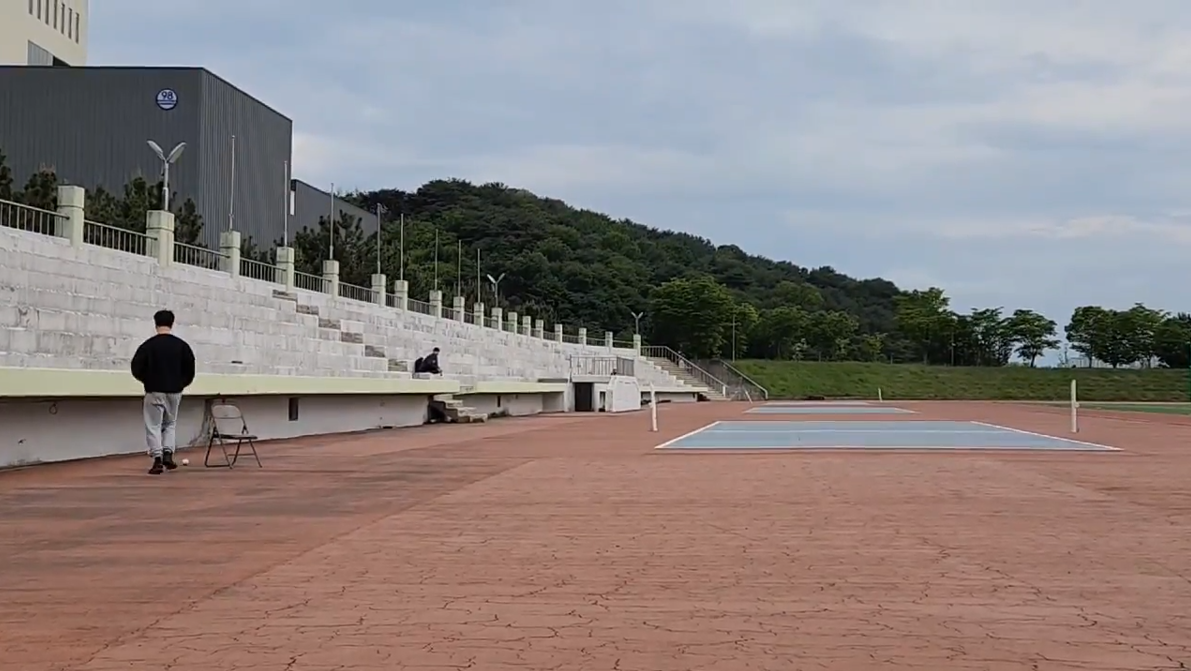ball: (180, 457, 189, 465)
